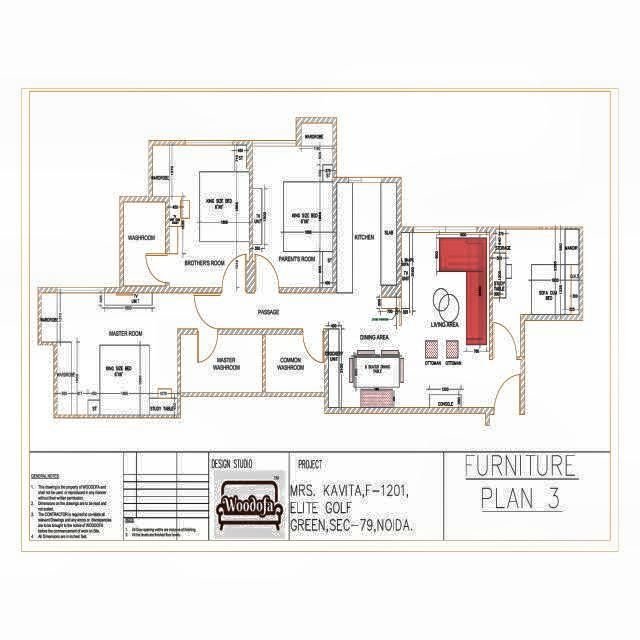room: (329, 233, 520, 406), (41, 292, 177, 414), (152, 144, 250, 287), (252, 123, 332, 290), (494, 229, 578, 357), (337, 183, 397, 296), (181, 334, 263, 393), (124, 202, 165, 285), (265, 335, 324, 391)
